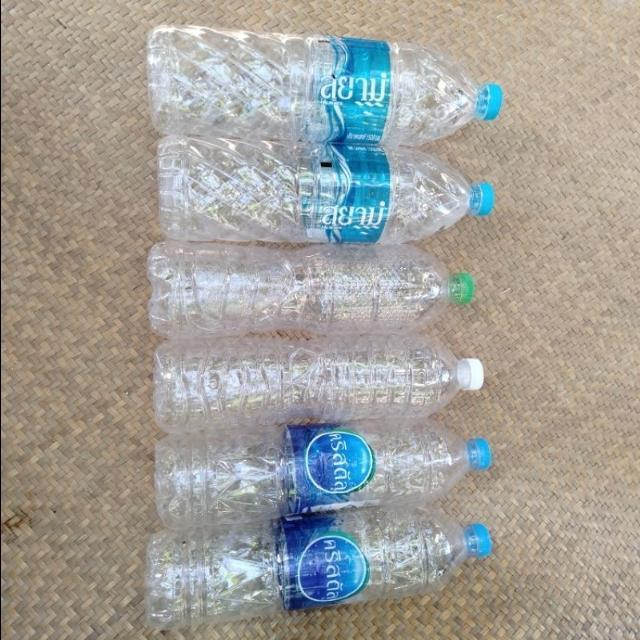PET Bottle: (142, 18, 520, 145), (137, 133, 511, 248), (144, 509, 508, 625), (141, 408, 517, 516), (146, 229, 490, 340), (150, 321, 509, 418)
